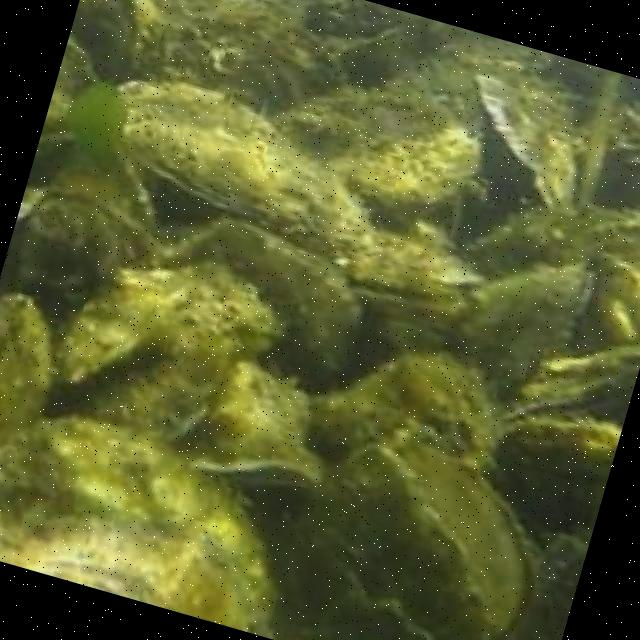Oyster-Closed: (0, 420, 276, 639), (270, 443, 536, 639), (42, 264, 283, 452), (116, 80, 373, 249), (160, 217, 361, 388), (376, 265, 595, 401), (0, 190, 165, 363), (273, 80, 484, 209), (312, 352, 495, 471), (161, 22, 347, 120), (496, 422, 620, 553), (50, 269, 185, 384), (475, 75, 578, 212), (319, 218, 483, 286), (52, 152, 156, 243), (36, 38, 107, 153), (0, 293, 52, 448), (71, 0, 162, 87), (571, 254, 639, 354), (540, 342, 639, 380), (310, 28, 399, 68), (214, 0, 312, 32), (150, 0, 190, 41)
Oyster-Open: (176, 360, 324, 487), (345, 267, 459, 317), (506, 383, 634, 426)
